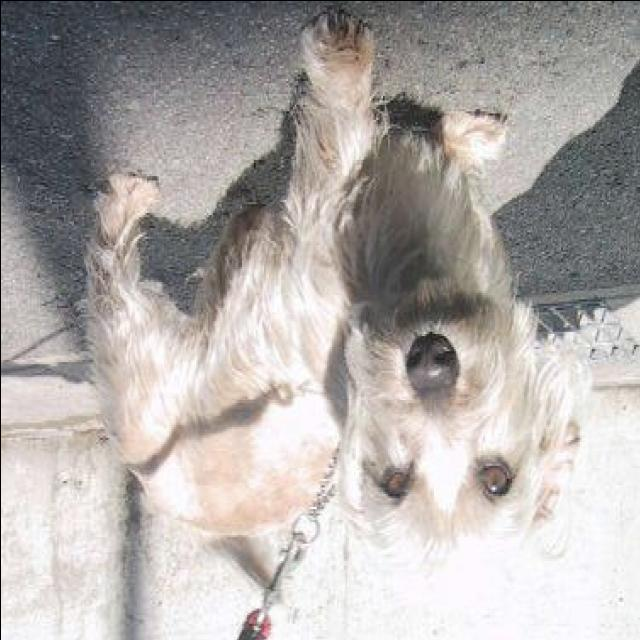dandie_dinmont: (76, 11, 584, 575)
